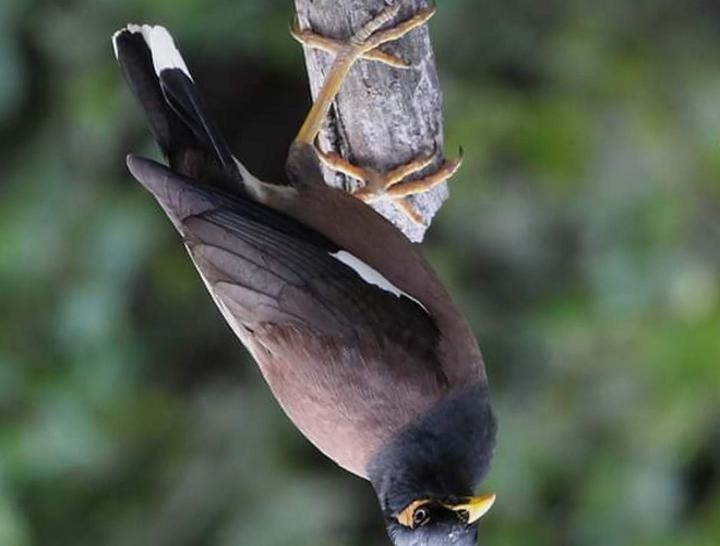myna: (169, 30, 512, 540)
